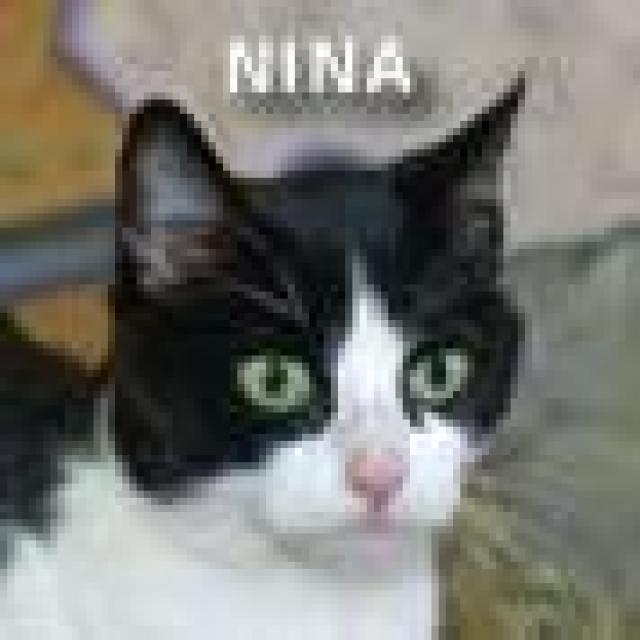cat: (0, 64, 525, 633)
